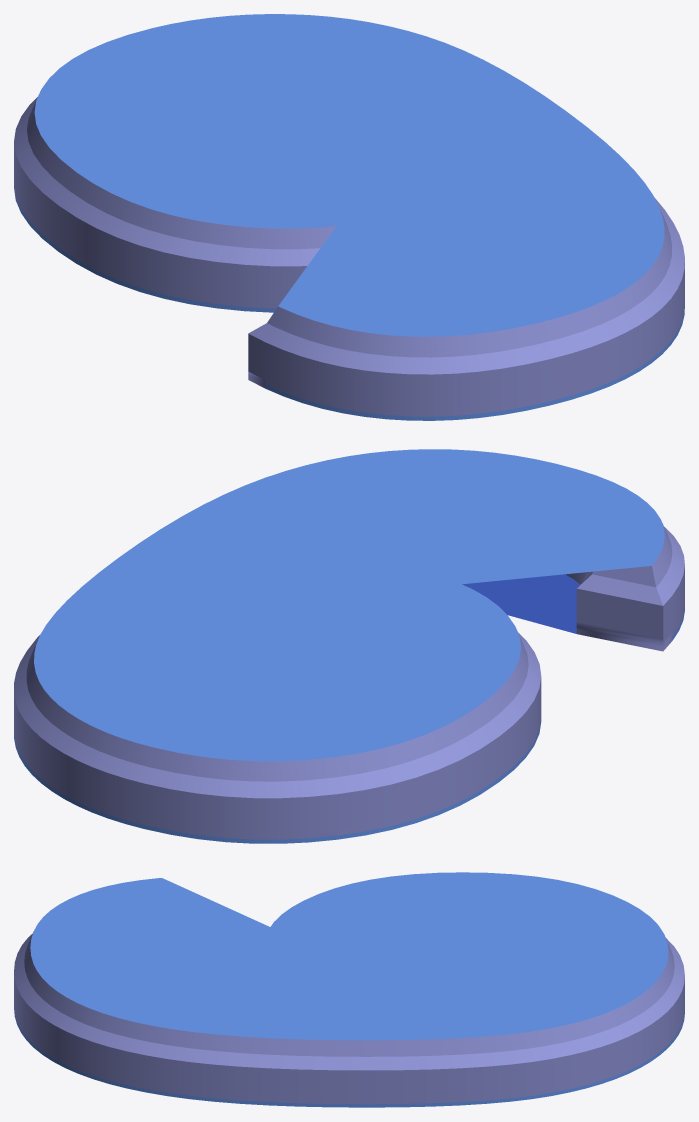
3 renders of one model, top to bottom at view 1: azimuth 30°, elevation 25°; view 2: azimuth 150°, elevation 25°; view 3: azimuth 270°, elevation 25°, orthographic. The views are drawn at different scales.
Parts seen in each view (by area): view 1: Text001; view 2: Text001; view 3: Text001.
Part boxes in pixels (x1,y1,x2,y2): Text001: [14, 14, 684, 420]; Text001: [14, 449, 684, 843]; Text001: [14, 872, 684, 1107].
Size of the model in its own units: 42 by 6.5 by 65.5.
